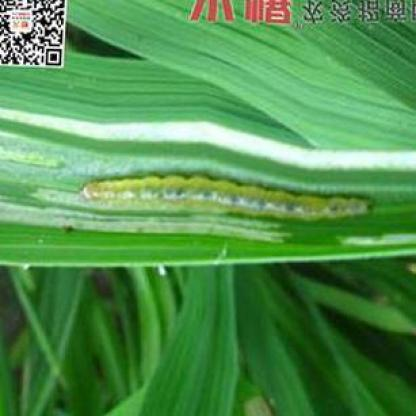leaf-folder: (78, 165, 380, 234)
